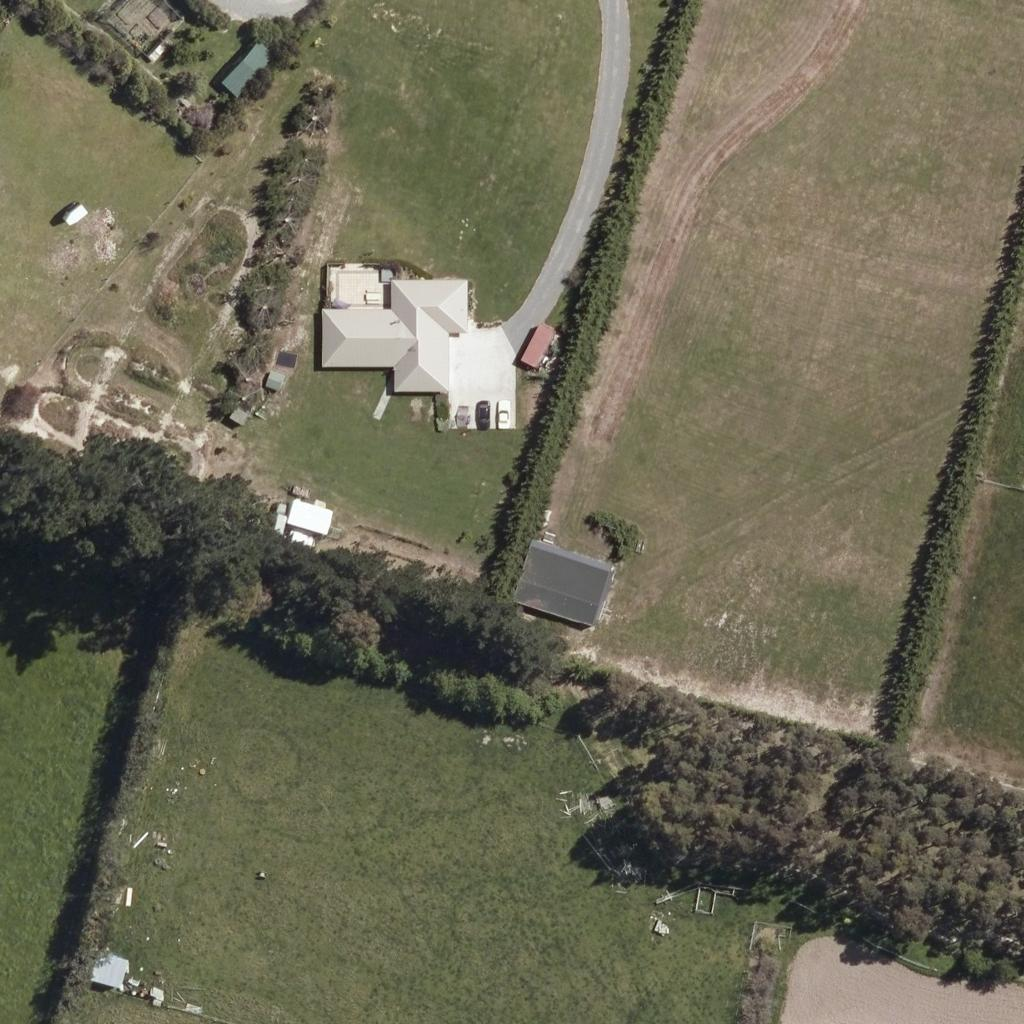car: (465, 396, 499, 430), (485, 399, 519, 433)
